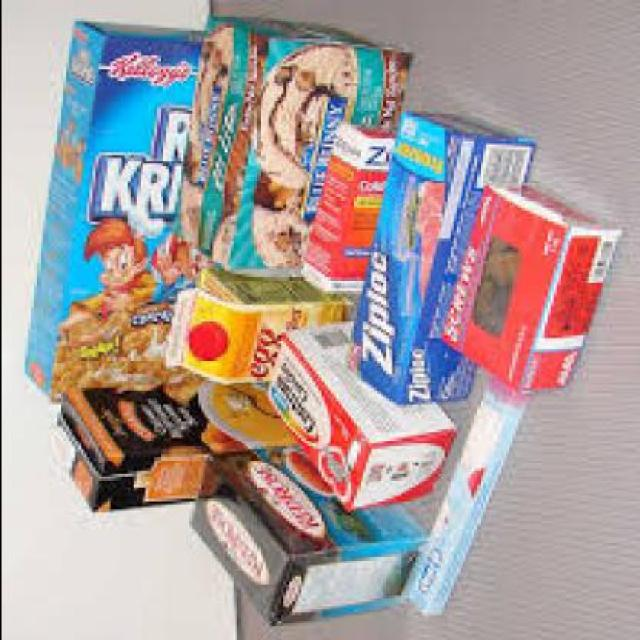CARDBOARD: (21, 25, 244, 404), (171, 21, 411, 277), (341, 114, 528, 409), (185, 457, 422, 629), (435, 185, 619, 393), (262, 324, 449, 516), (45, 388, 282, 515), (400, 390, 522, 621), (159, 274, 346, 386), (296, 131, 396, 294)
